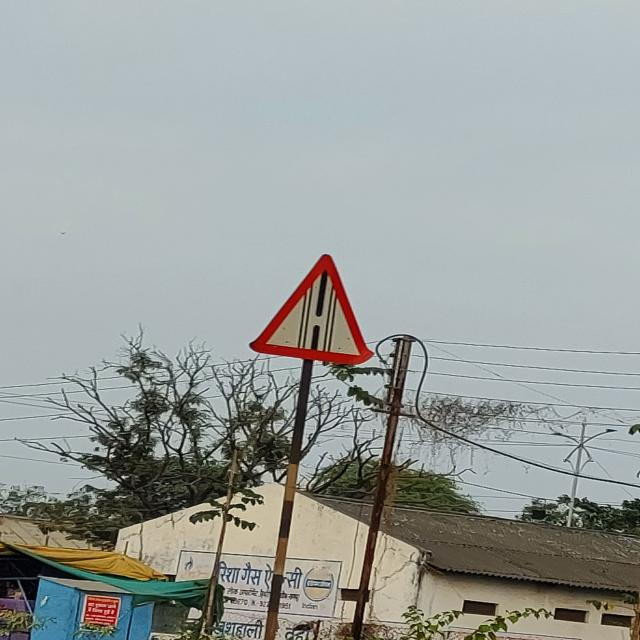ferry: (248, 252, 371, 366)
